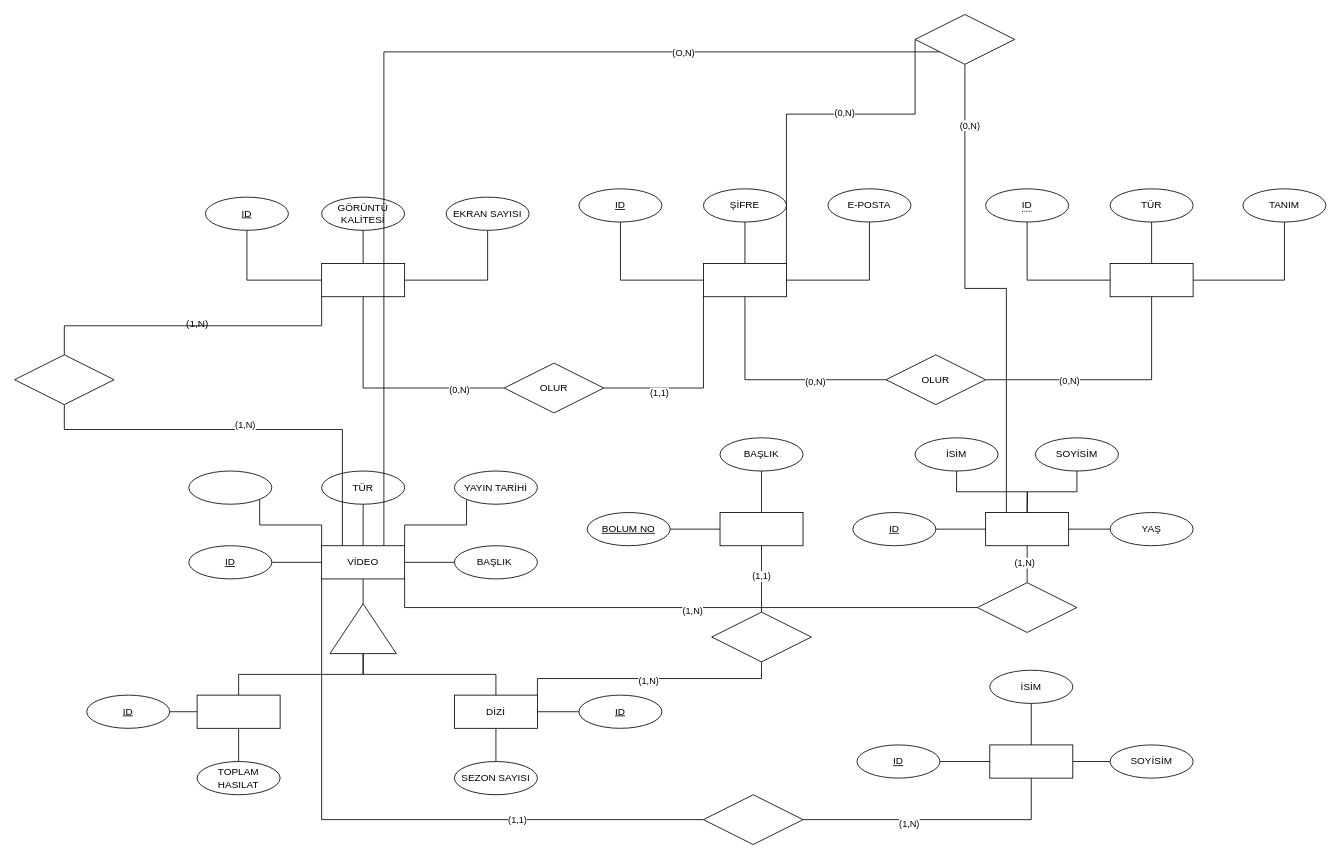
Image size: 1340x859. Some labels were removed from this diagram. The shapes that lost their labels are listed below. From the top down, each one's centre as x and y in pixels, then its label:
point 964,39: BEĞENİR
point 363,280: PAKET
point 744,280: KULLANICI
point 1151,280: İLGİ ALANI
point 64,379: İÇERİR
point 230,487: RAYTİNG
point 761,529: BÖLÜM
point 1027,529: SANATÇILAR
point 1026,607: ROL ALIR
point 362,628: İS-A
point 761,636: AİT
point 238,711: FİLM
point 1031,761: YONETMEN
point 753,819: YÖNETİR
